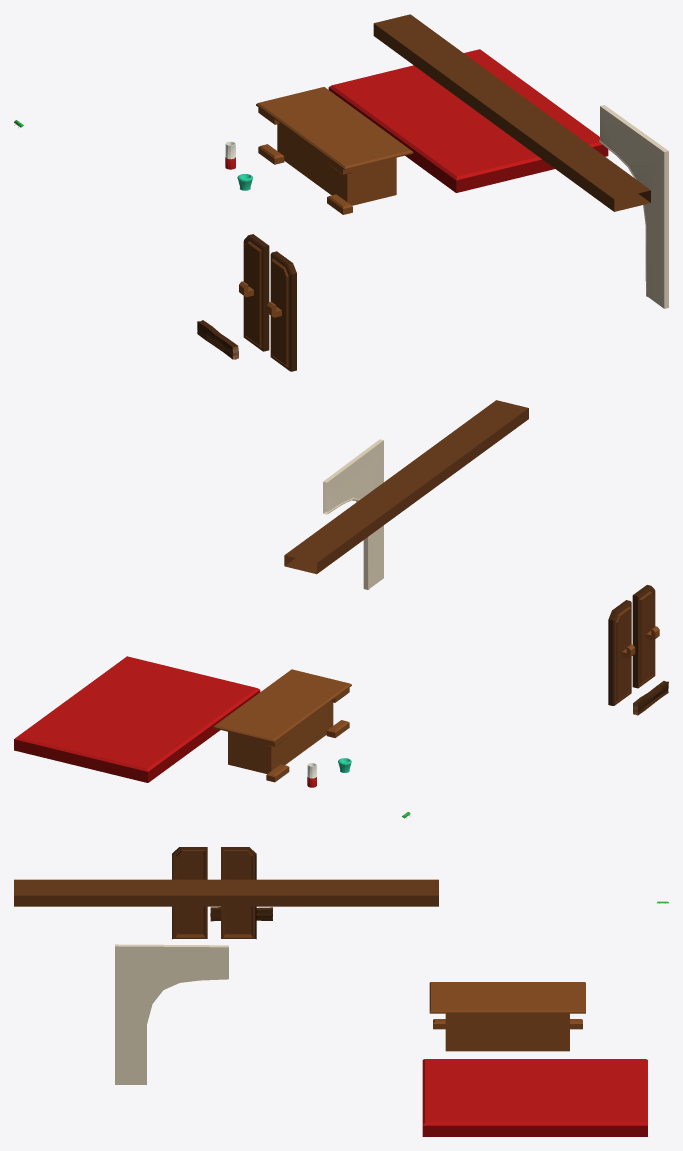
The model's file is Church_wall_Assets01.fbx.
3 renders of one model, top to bottom at view 1: azimuth 30°, elevation 25°; view 2: azimuth 150°, elevation 25°; view 3: azimuth 270°, elevation 25°, orthographic. The views are drawn at different scales.
Parts seen in each view (by area): view 1: Floor_Pedestal, Ceiling_Supp, Table, Wall_Arch, Door_R, Door_L, Wood_Plank; view 2: Floor_Pedestal, Ceiling_Supp, Table, Wall_Arch, Door_L, Door_R; view 3: Floor_Pedestal, Ceiling_Supp, Table, Wall_Arch, Door_R, Door_L.
Part boxes in pixels (x1,y1,x2,y2): Floor_Pedestal: (328, 49, 608, 192); Ceiling_Supp: (373, 14, 650, 211); Table: (256, 87, 413, 214); Wall_Arch: (599, 105, 668, 308); Door_R: (266, 251, 296, 371); Door_L: (239, 234, 269, 351); Wood_Plank: (197, 320, 238, 359); Floor_Pedestal: (14, 656, 260, 782); Ceiling_Supp: (284, 400, 528, 574); Table: (213, 669, 351, 782); Wall_Arch: (323, 439, 383, 589); Door_L: (608, 600, 635, 705); Door_R: (632, 585, 659, 688); Floor_Pedestal: (422, 1059, 647, 1136); Ceiling_Supp: (14, 879, 438, 906); Table: (429, 982, 585, 1051); Wall_Arch: (115, 944, 228, 1084); Door_R: (172, 847, 207, 939); Door_L: (221, 847, 256, 939).
Size of the model in its own units: 92.99 by 32.47 by 120.
